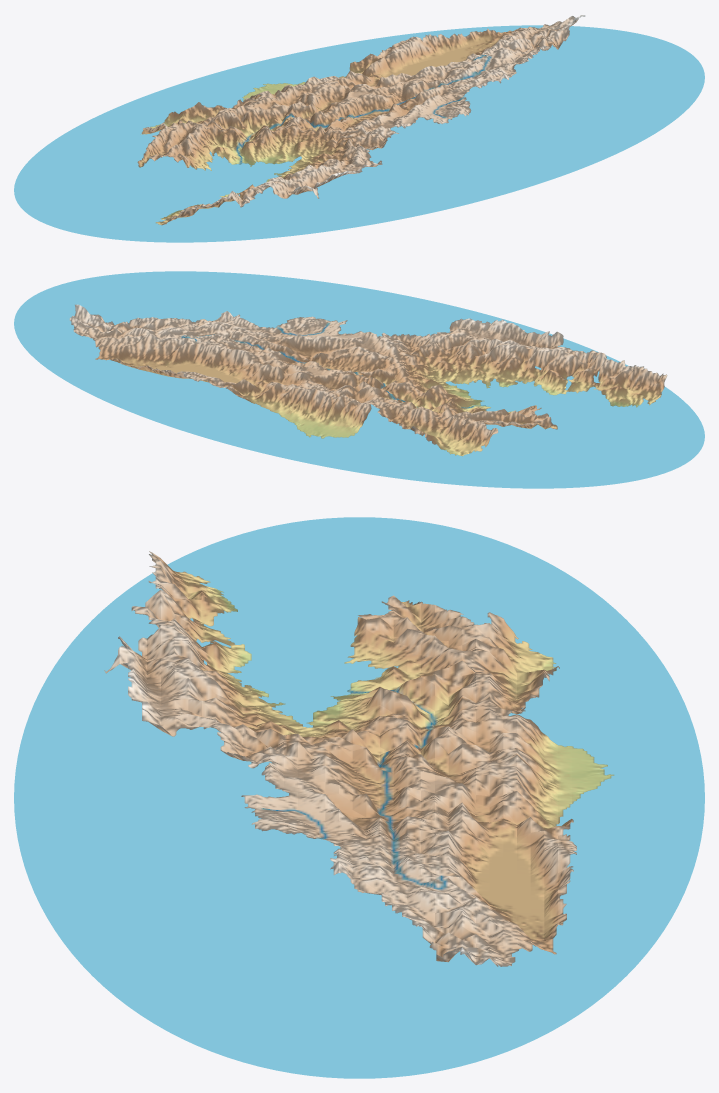
File: KGZ-terrain.glb
The picture shows the model from 3 angles, top to bottom: view 1: azimuth 30°, elevation 25°; view 2: azimuth 150°, elevation 25°; view 3: azimuth 270°, elevation 25°; orthographic projection. The views are drawn at different scales.
Visible parts, largest first — view 1: Relevo com hidrografia; view 2: Relevo com hidrografia; view 3: Relevo com hidrografia.
Boxes of the visible parts, left/top/right/bottom form: Relevo com hidrografia: left=14, top=15, right=704, bottom=242; Relevo com hidrografia: left=14, top=271, right=704, bottom=488; Relevo com hidrografia: left=14, top=517, right=704, bottom=1078.
Size of the model in its own units: 2.1 by 0.1083 by 1.09.
Materials: 2 (1 with a texture image).
